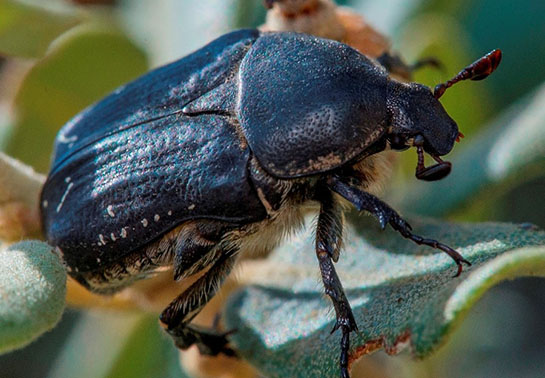Protaetia_oblonga: (21, 24, 516, 375)
